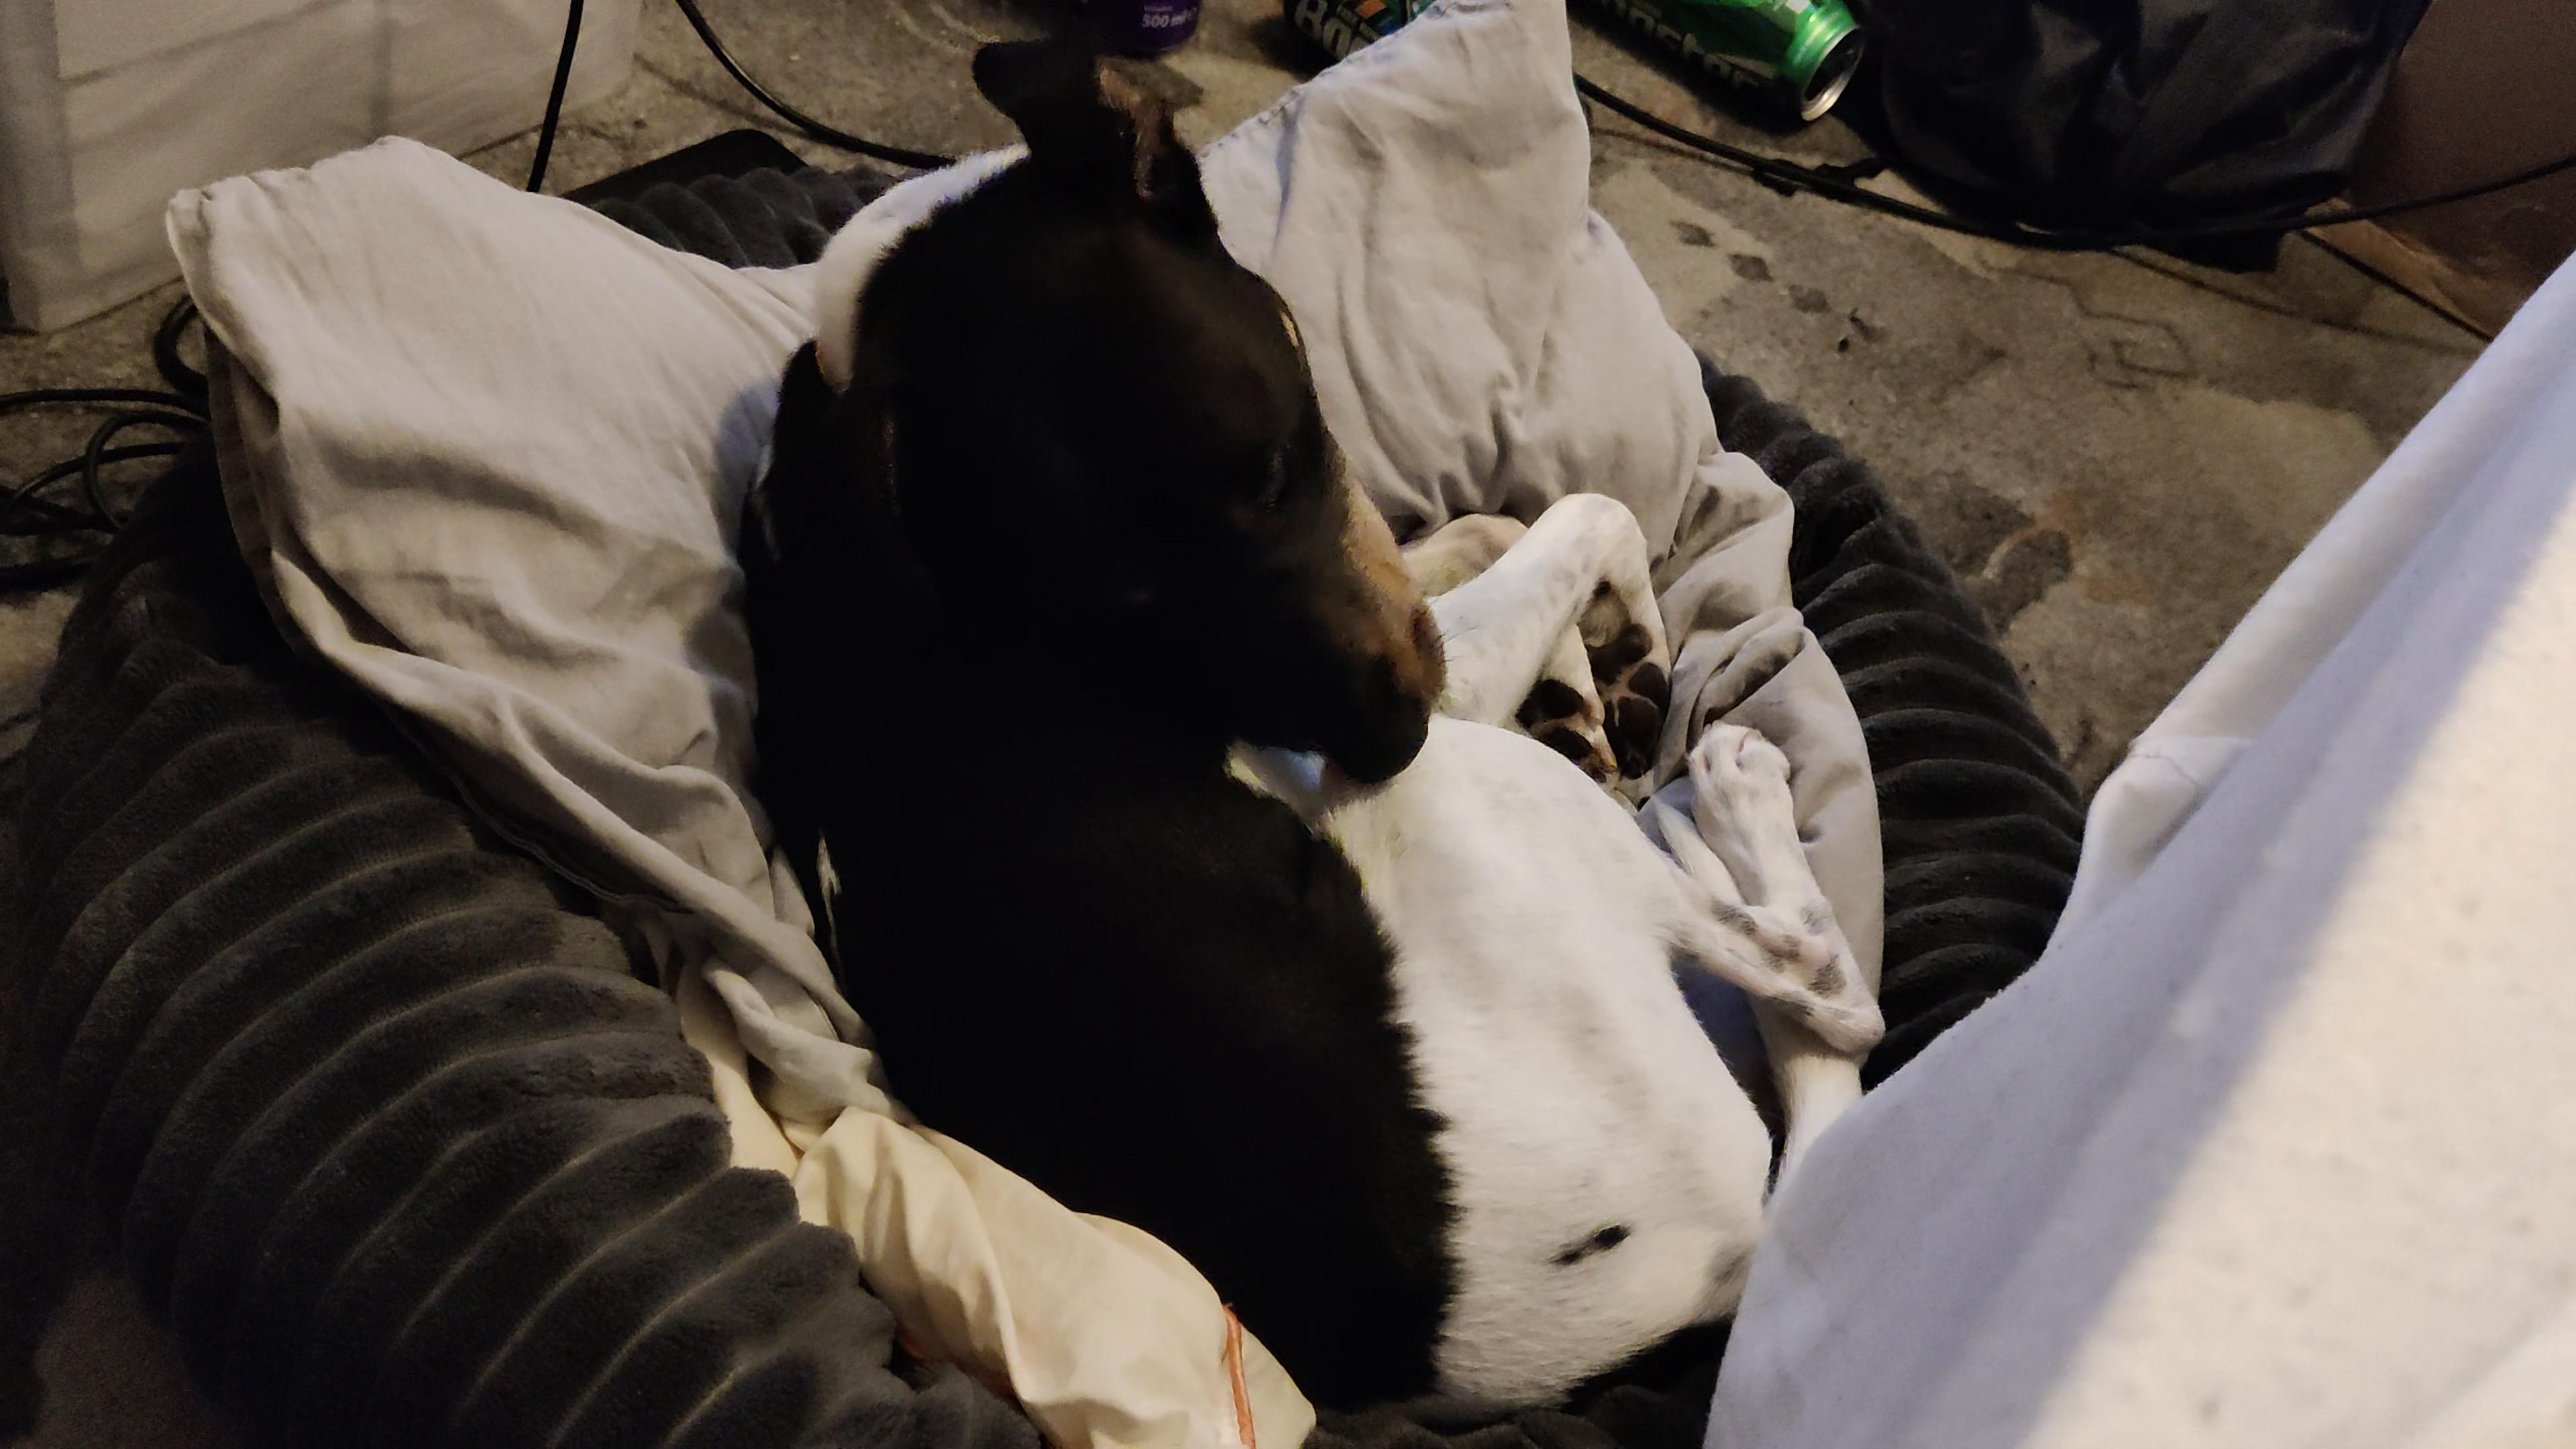Dog: (734, 21, 1898, 1415)
